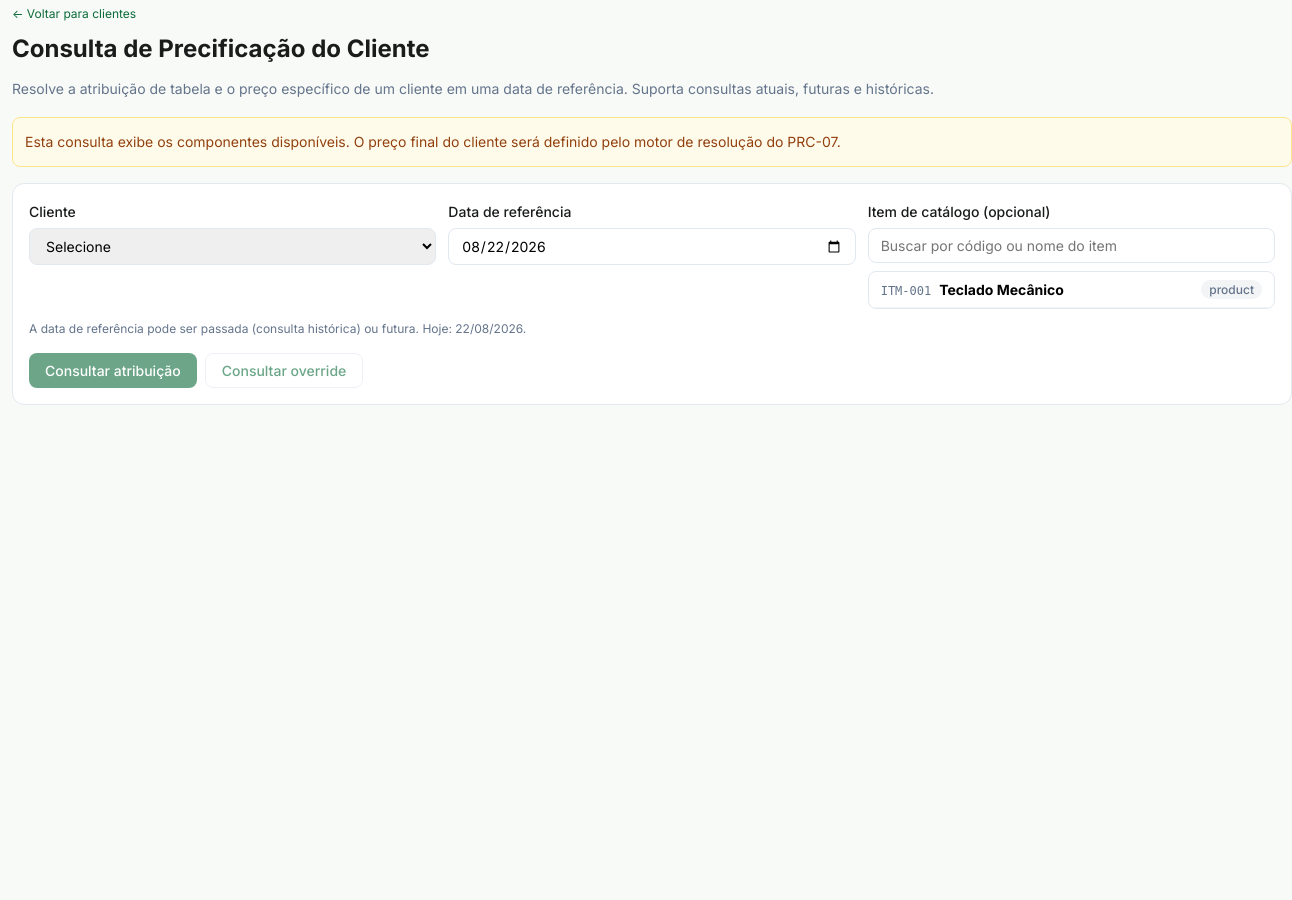
Test: No PRC-07 implementation in the lookup page (CUI-NPRC07-01..04) › CUI-NPRC07-02: lookup page does not combine assignment + override into one price
Select "company-…" in the dropdown labelled "Cliente". click: (233, 246)
box: [29,228,436,265]
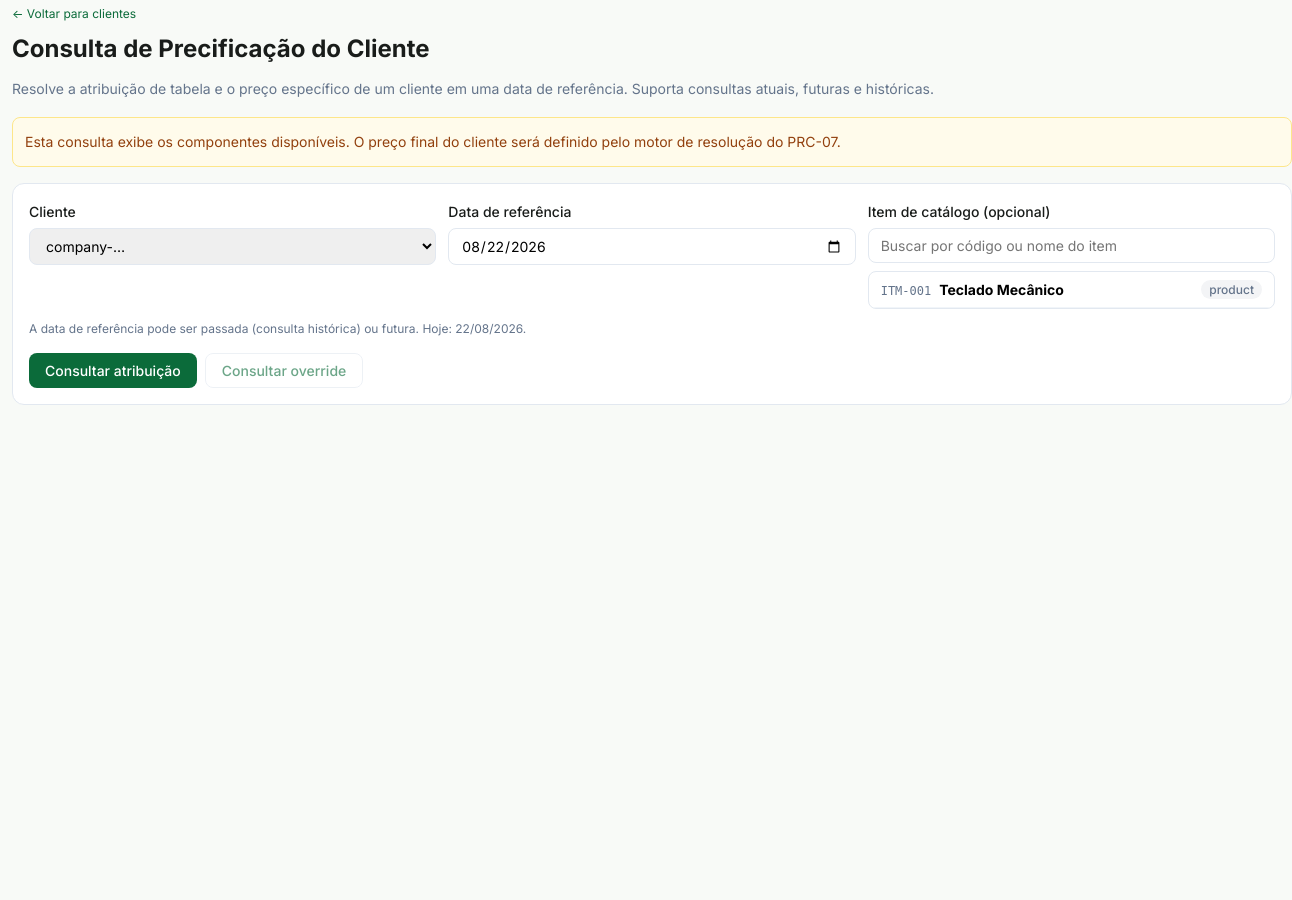
Click the option "ITM-001Teclado Mecânico product". click: (906, 291)
box: [869,272,1274,308]
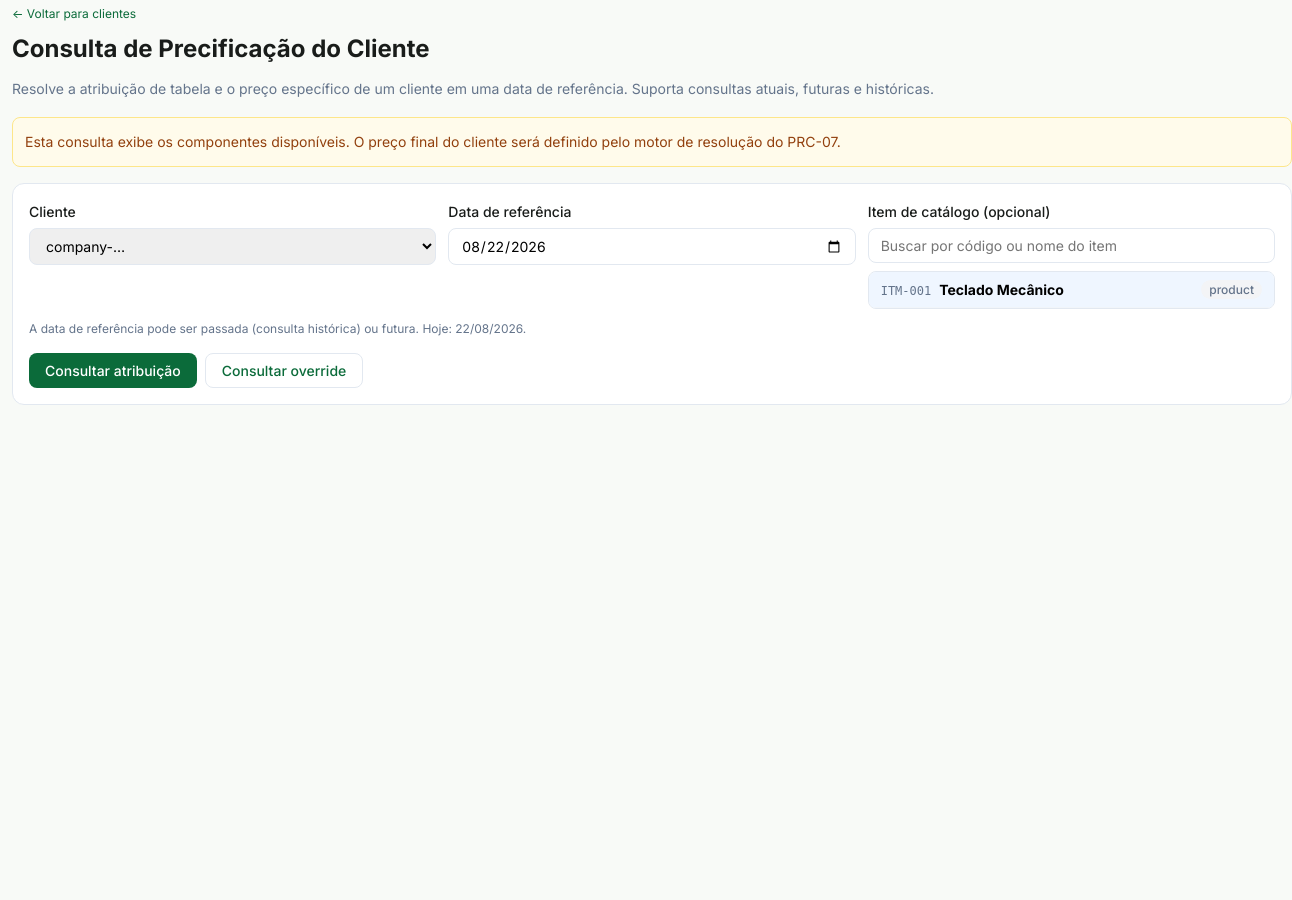
Click the button "Consultar atribuição". click: (113, 370)
box: [29,353,197,388]
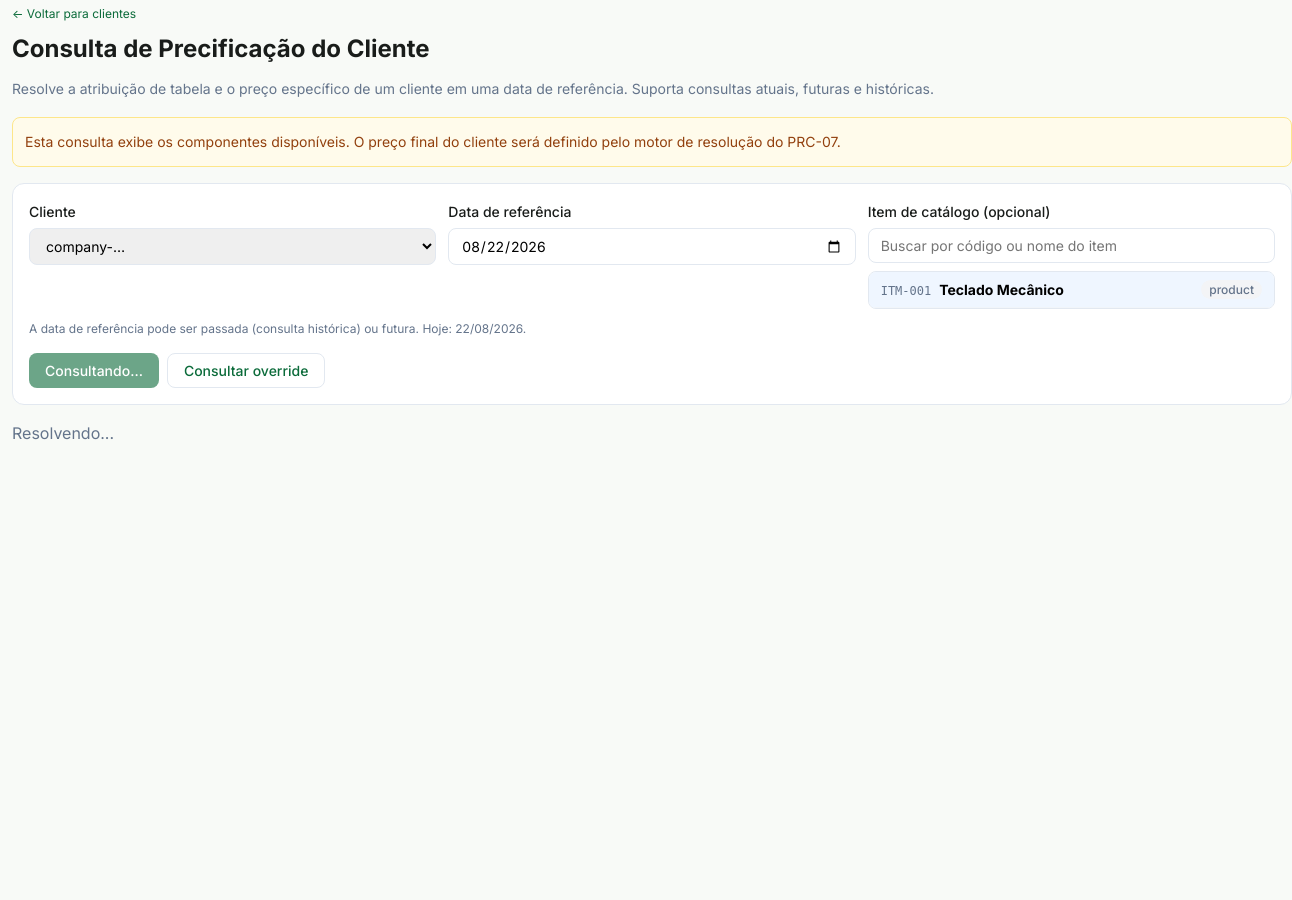
Click the button "Consultar override". click: (246, 370)
box: [167,353,325,388]
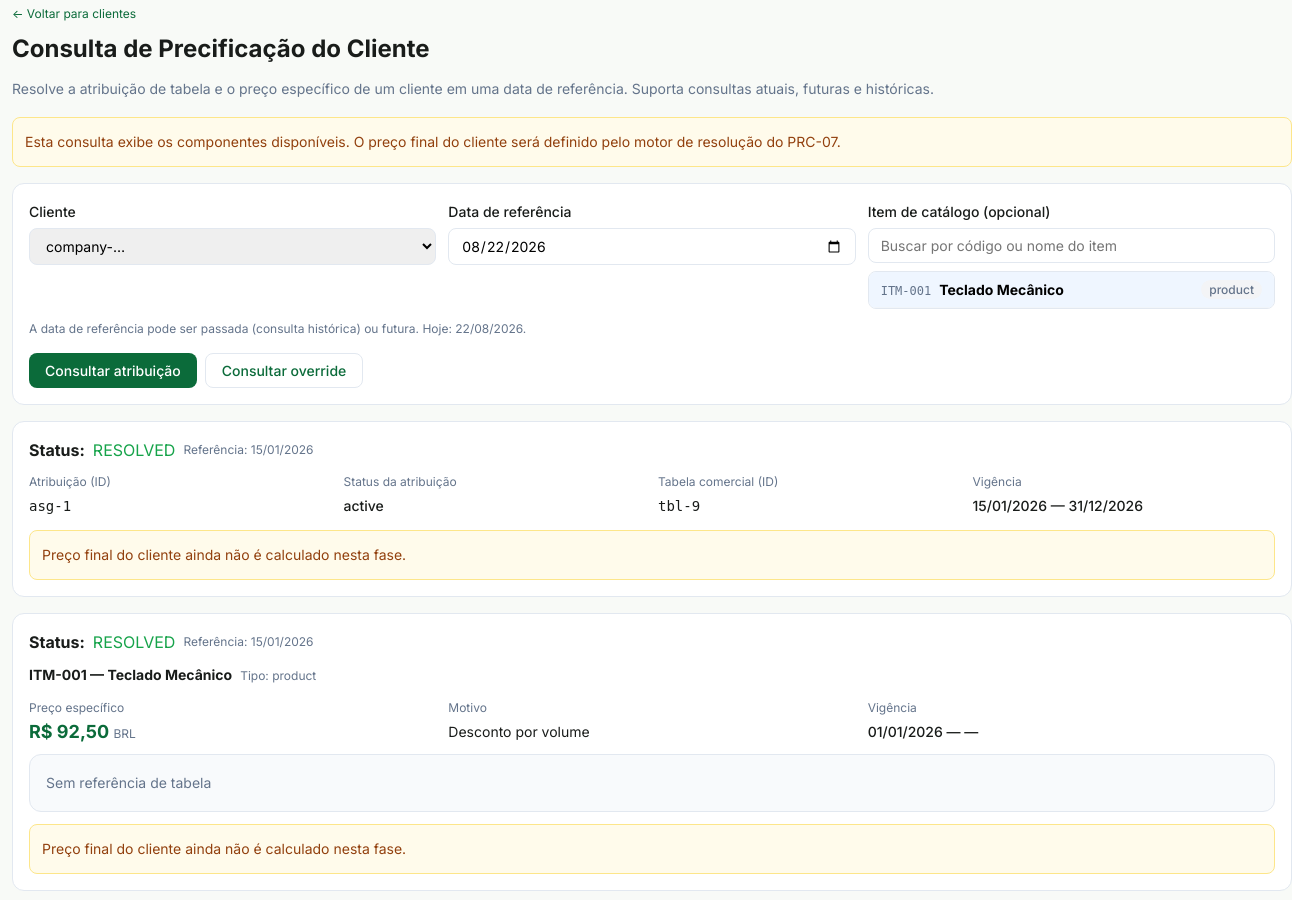
Expected: the text "Status:" is shown 2 times, [29,438,85,462]; [29,630,85,654]
Expected: the text "ainda não é calculado nesta fase" is shown, [42,546,406,563]
